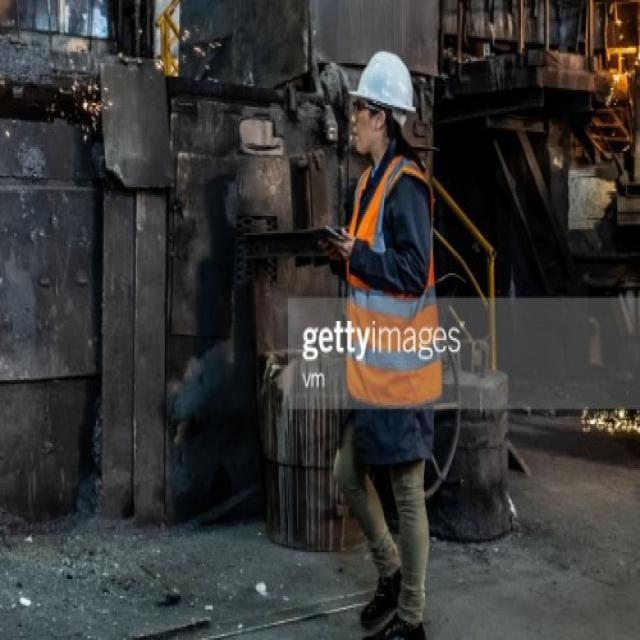safety_helmet: (346, 157, 443, 418)
